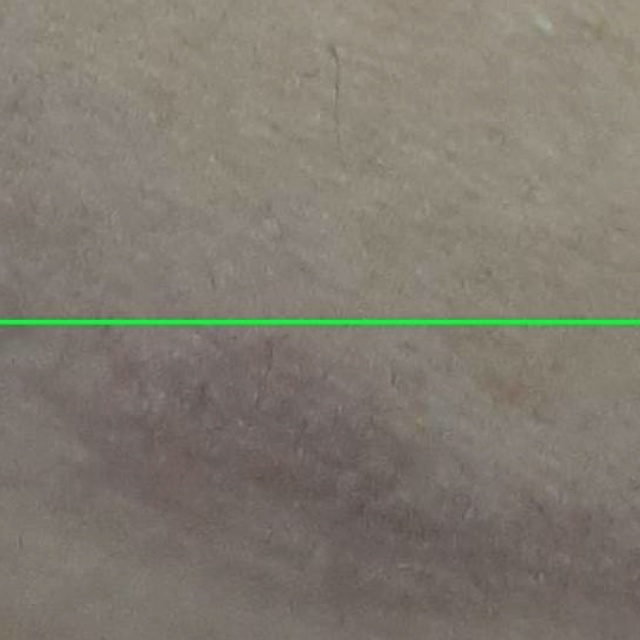Tinea Corporis: (0, 321, 639, 639)
